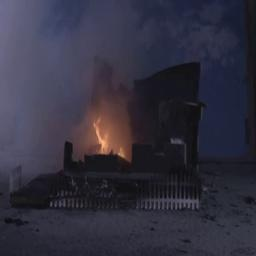fire: (87, 103, 129, 161)
smoke: (0, 1, 72, 126)
